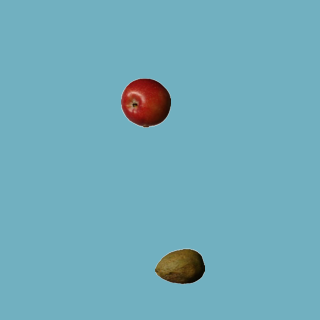Apple Braeburn: (120, 77, 170, 127)
Papaya: (154, 241, 204, 291)
